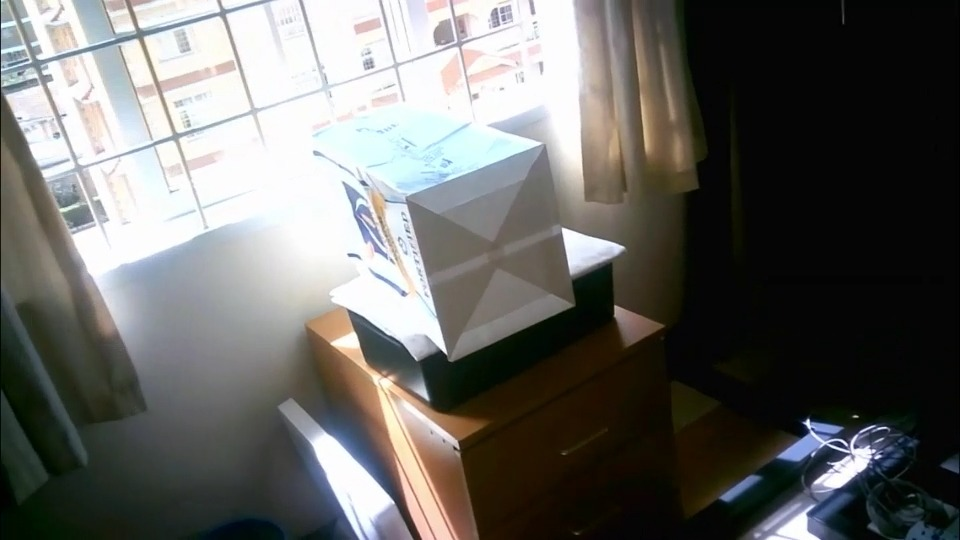wheat_flour_blue_label: (309, 103, 573, 354)
